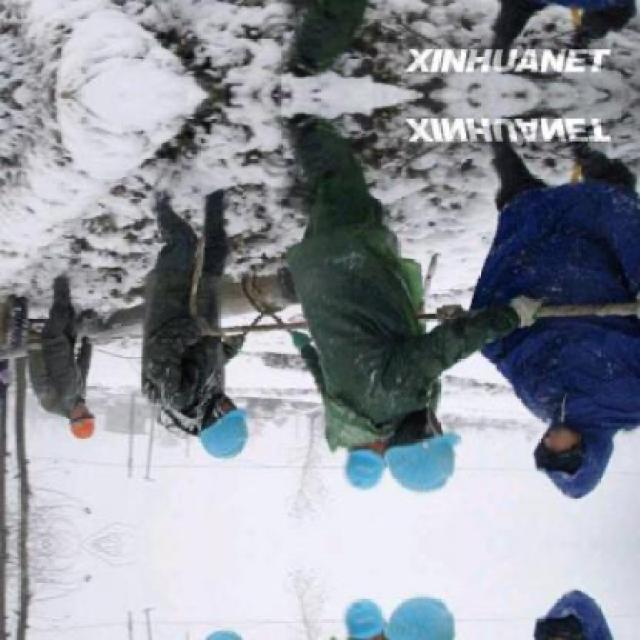con casco: (318, 411, 498, 516), (145, 379, 279, 476)
